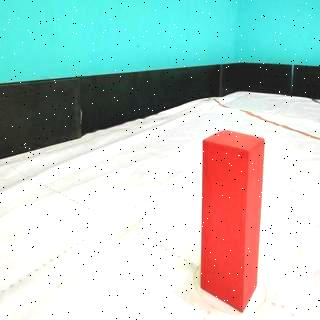redbox: (202, 128, 266, 312)
